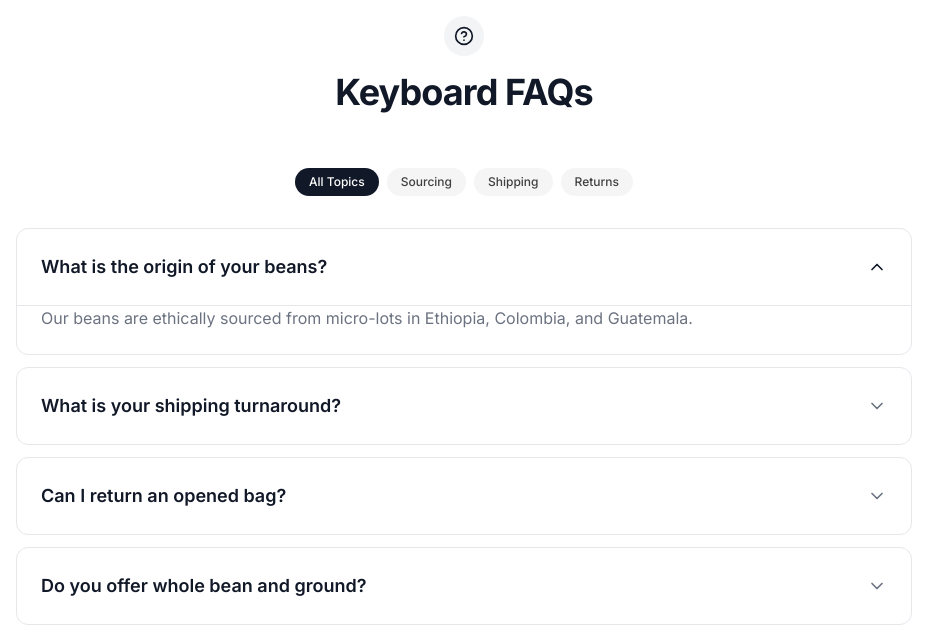
Test: Adversarial Stress Verification: SectionRenderer & Content Interactivity (Challenger M3-2) › FaqAccordion Interactivity & Keyboard Stress › keyboard navigation: handles Enter and Space key activation for accordion toggling
Note: Enter key triggers click on native button
Click the button "What is your shipping turnaround?" at (191, 406), box [17,368,911,444]
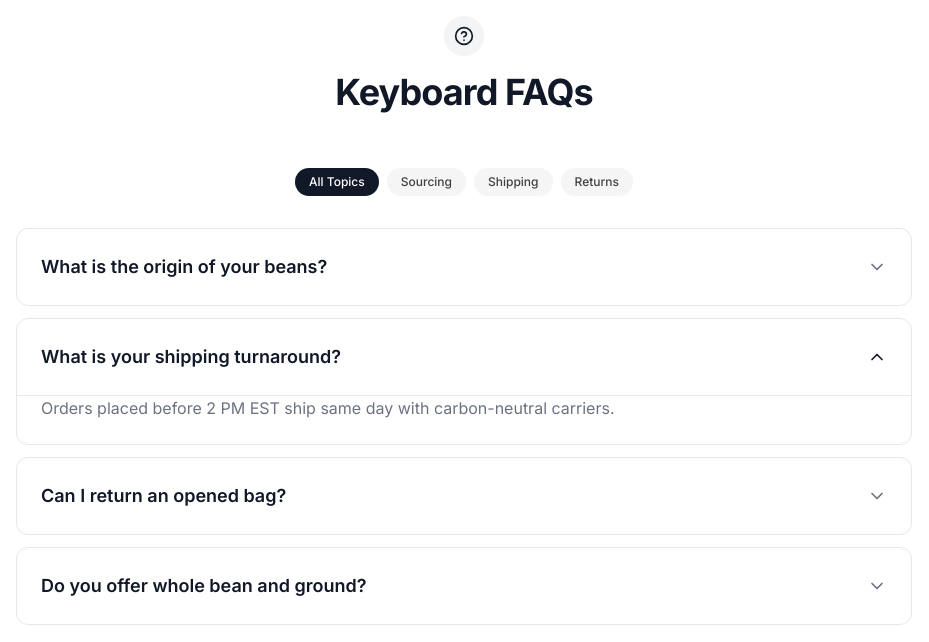
Check: the button "What is your shipping turnaround?" is expanded
Note: Space key triggers click on native button
Click the button "What is your shipping turnaround?" at (191, 356), box [17,319,911,395]
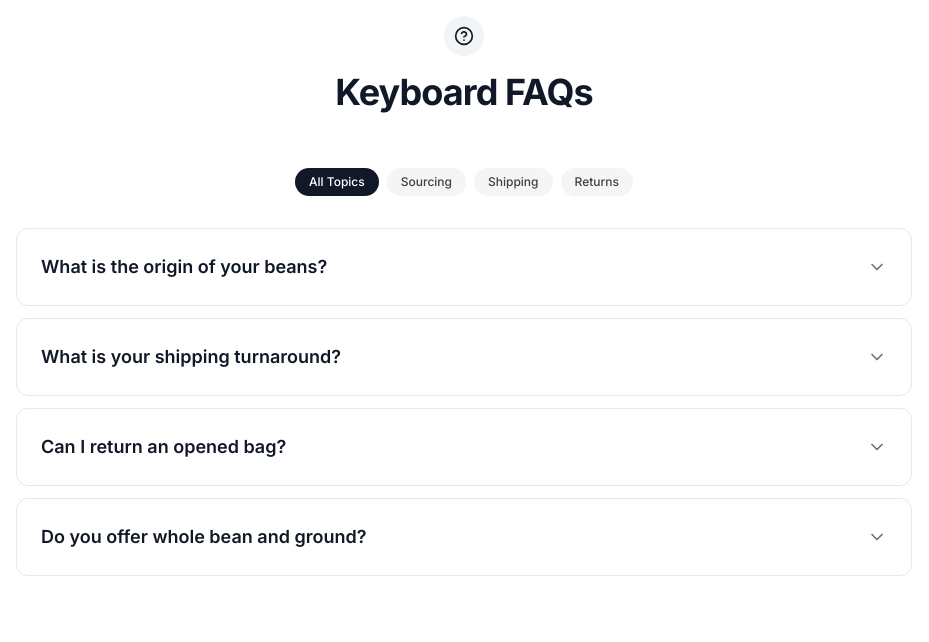
Check: the button "What is your shipping turnaround?" is collapsed, box [17,319,911,395]
